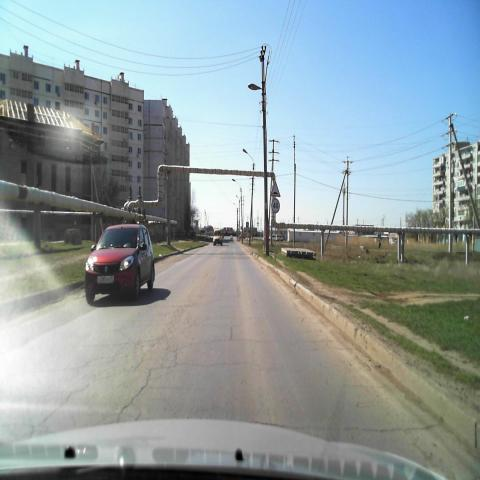1_17: (270, 180, 280, 197)
